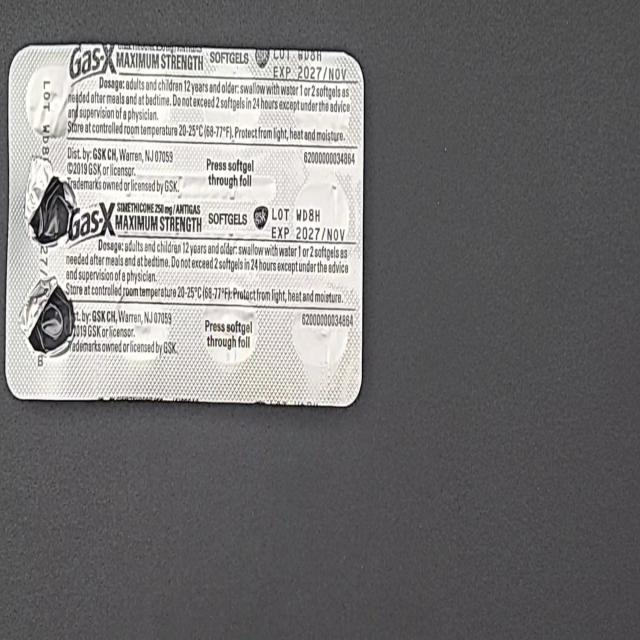defect: (21, 151, 79, 253), (16, 272, 78, 363)
